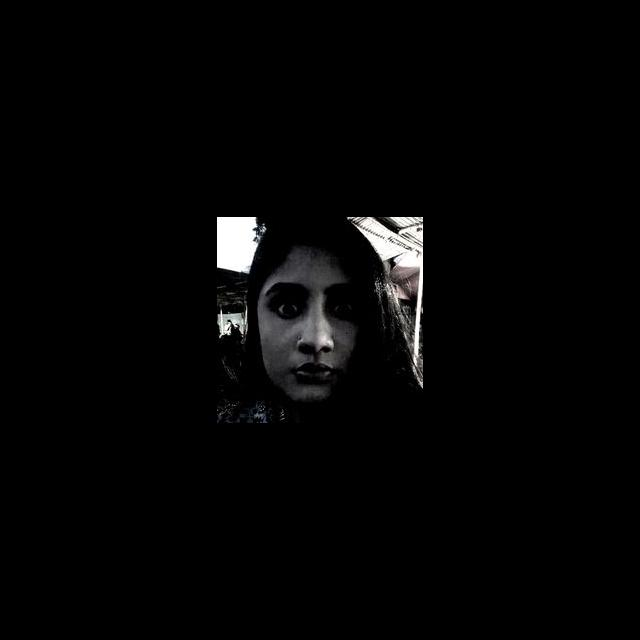Surprised: (248, 253, 370, 402)
